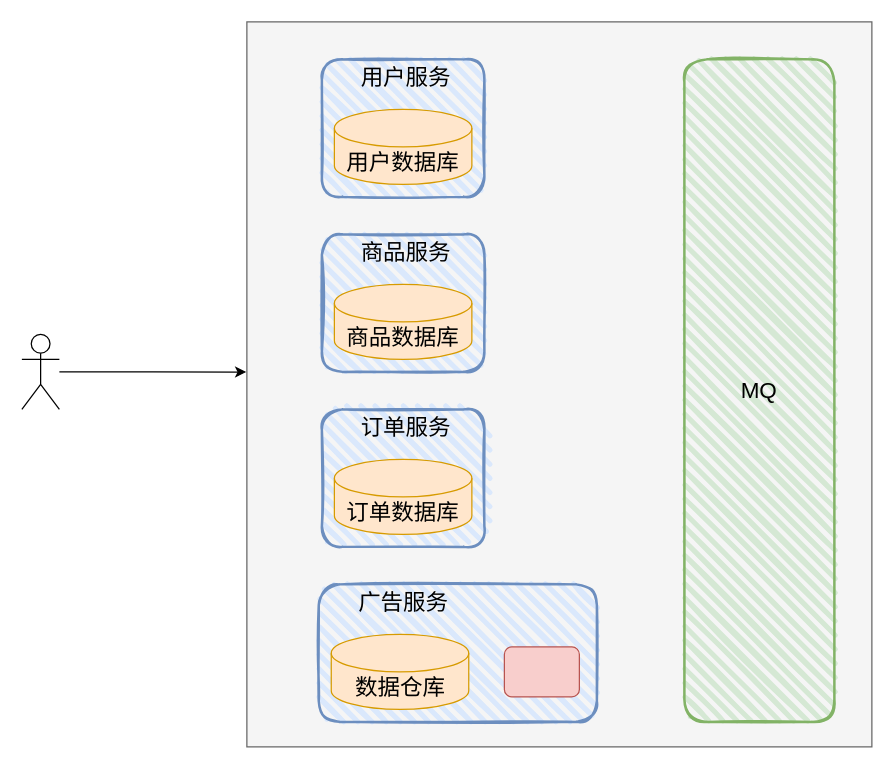
Some shapes in this 894 by 769 pixel diagram are drawn without their labels. Here are the shapes that lost their labels. From the top down, the box of each, then its label:
(21, 333, 59, 409): Actor
(503, 646, 579, 697): Redis
